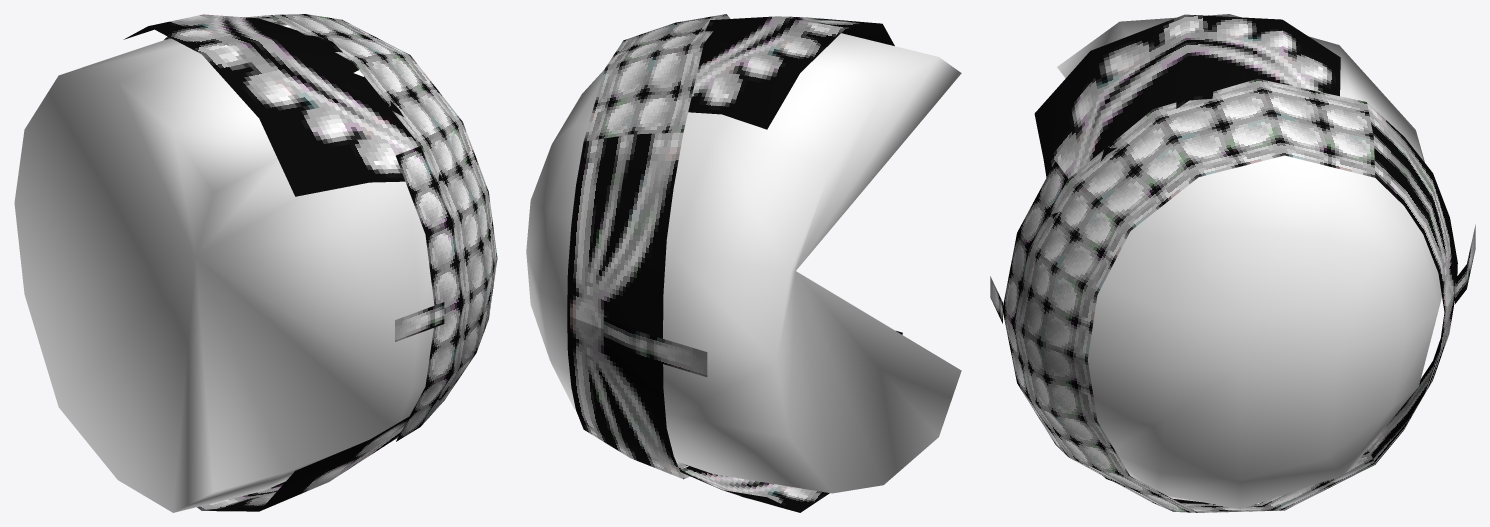
The model's file is hlmt_coinhead.dae.
3 renders of one model, left to right at view 1: azimuth 30°, elevation 25°; view 2: azimuth 150°, elevation 25°; view 3: azimuth 270°, elevation 25°, orthographic.
Visible parts, largest first — view 1: hlmt_coinhead; view 2: hlmt_coinhead; view 3: hlmt_coinhead.
Boxes of the visible parts, x1=… form: hlmt_coinhead: x1=14, y1=14, x2=497, y2=512; hlmt_coinhead: x1=526, y1=14, x2=961, y2=512; hlmt_coinhead: x1=990, y1=14, x2=1475, y2=512.
Size of the model in its own units: 19.67 by 25.95 by 25.23.
Materials: 2 (2 with a texture image).
